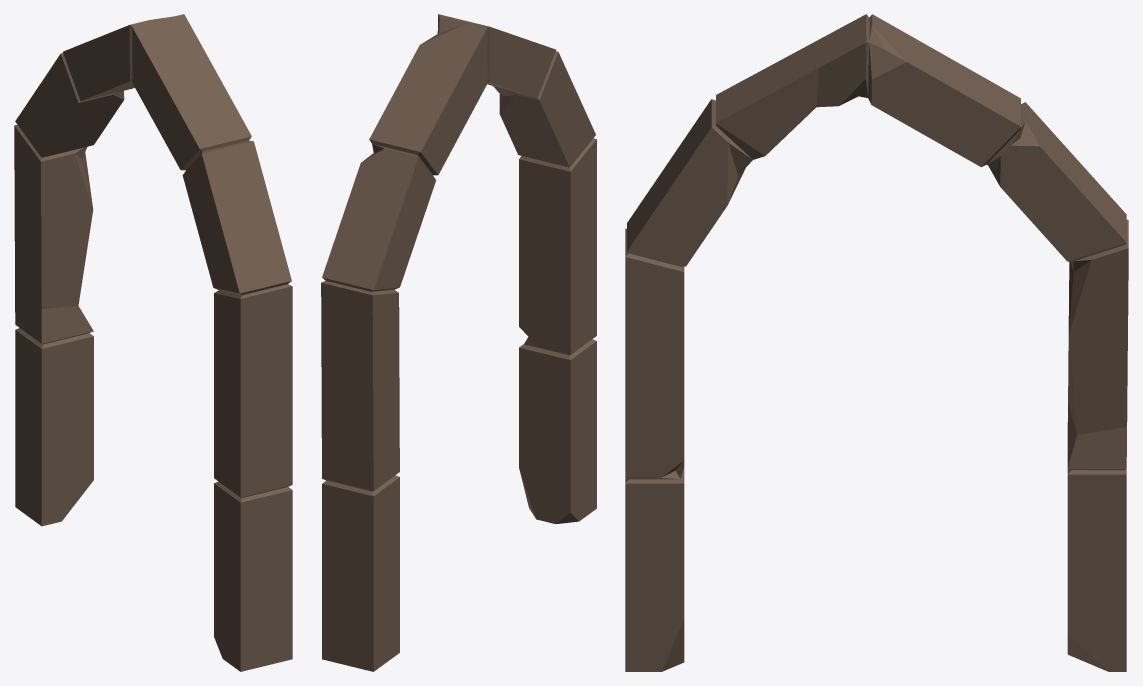
Rendered from Cadre_Porte.FBX.
3 views of the same model, side by side, from view 1: azimuth 30°, elevation 25°; view 2: azimuth 150°, elevation 25°; view 3: azimuth 270°, elevation 25° (orthographic). The views are drawn at different scales.
Visible parts, largest first — view 1: Cadre_Alchimiste; view 2: Cadre_Alchimiste; view 3: Cadre_Alchimiste.
Boxes of the visible parts, bbox=[...] form: Cadre_Alchimiste: bbox=[14, 14, 292, 671]; Cadre_Alchimiste: bbox=[321, 14, 596, 671]; Cadre_Alchimiste: bbox=[625, 14, 1128, 671].
Bounding box in the file's own units: 28.5 × 296 × 214.
1 material, 1 textured.
